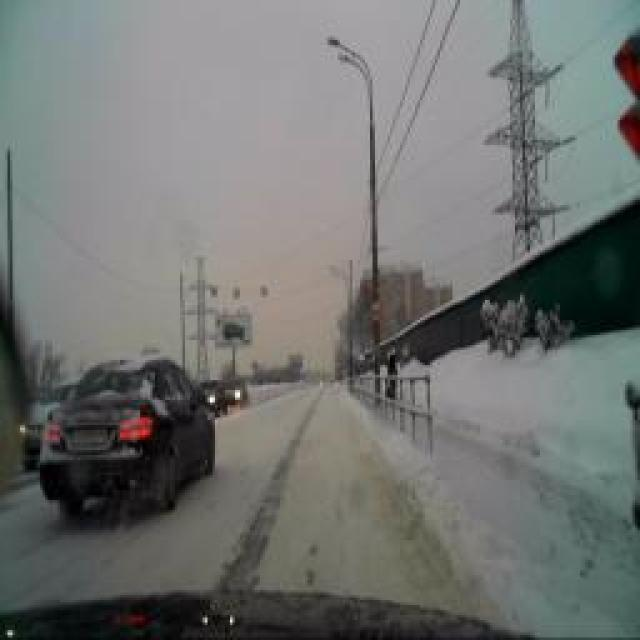sign: (368, 301, 384, 324)
